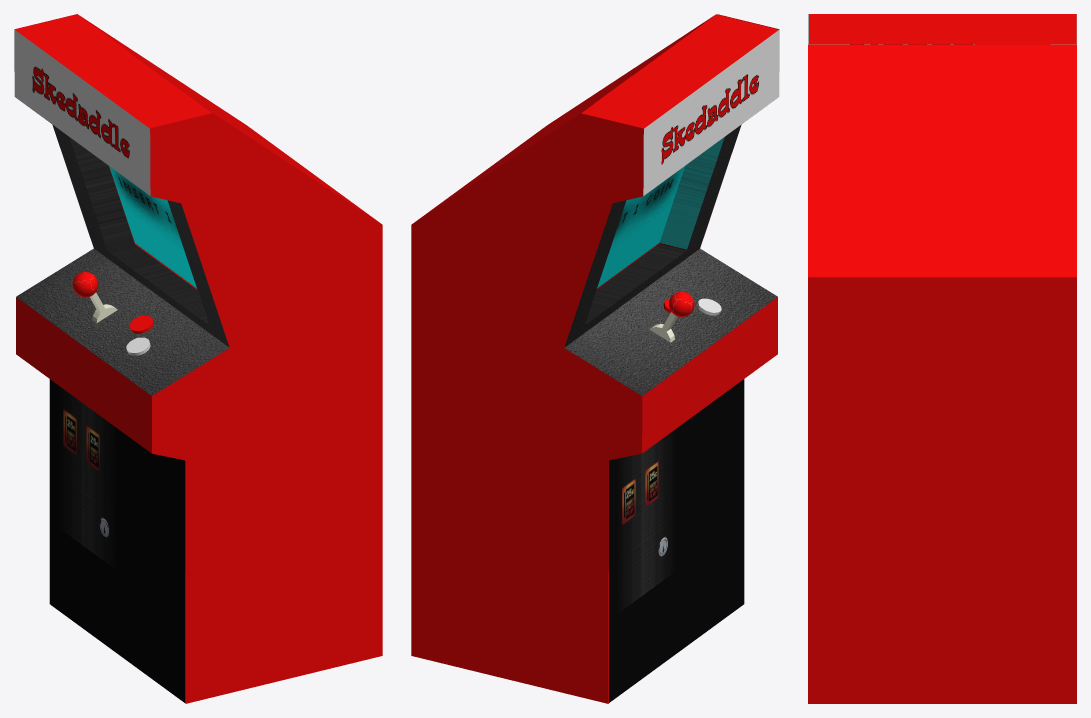
File: Arade Machine (Skedaddle).fbx
The picture shows the model from 3 angles, left to right: view 1: azimuth 30°, elevation 25°; view 2: azimuth 150°, elevation 25°; view 3: azimuth 270°, elevation 25°; orthographic projection.
Visible parts, largest first — view 1: Body, Sign, Joystick; view 2: Body, Sign, Joystick; view 3: Body.
Part boxes in pixels (bbox=[...]): Body: bbox=[14, 14, 382, 703]; Sign: bbox=[14, 29, 150, 195]; Joystick: bbox=[72, 271, 117, 322]; Body: bbox=[411, 14, 779, 703]; Sign: bbox=[643, 29, 779, 195]; Joystick: bbox=[649, 291, 694, 342]; Body: bbox=[808, 14, 1076, 703].
Size of the model in its own units: 304 by 728 by 307.
